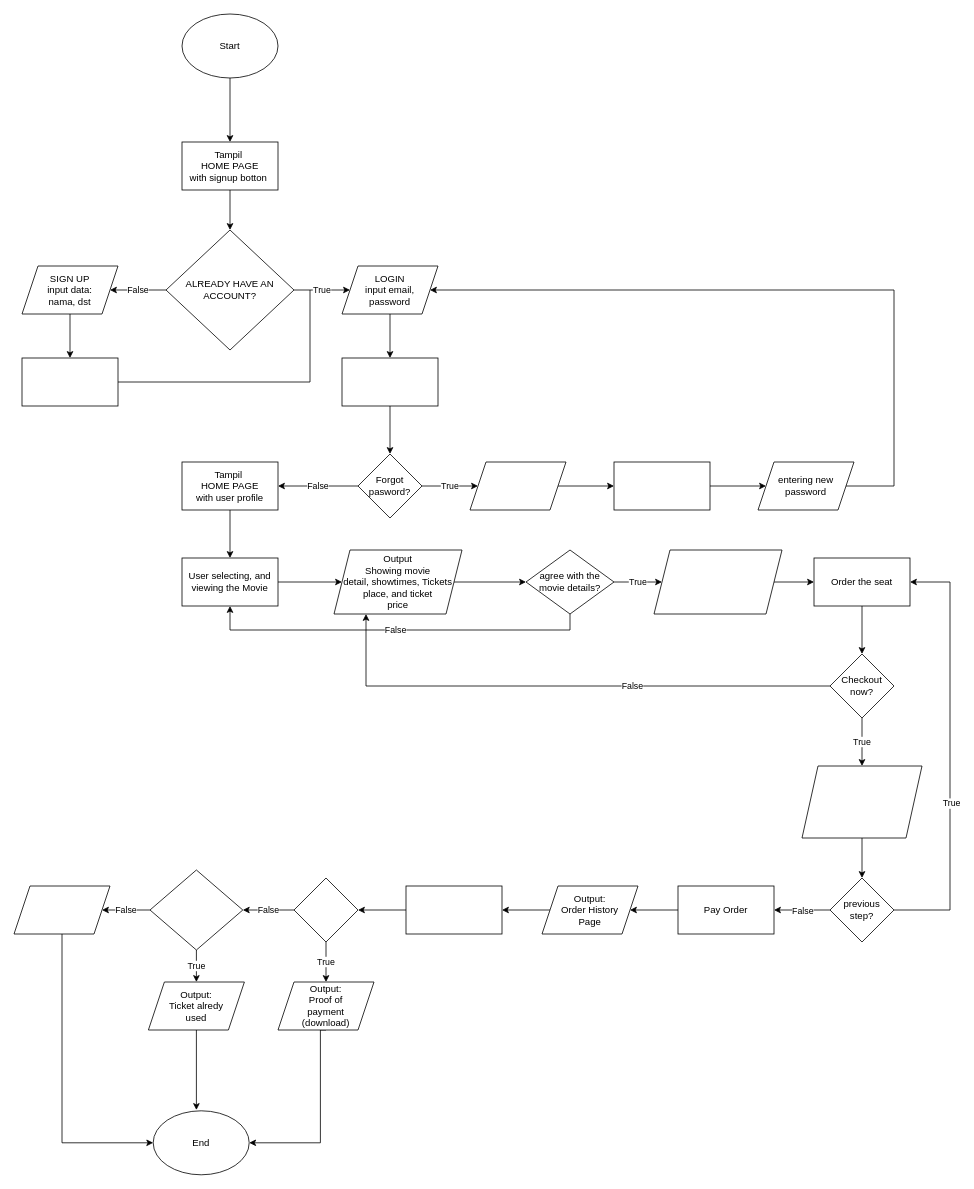
This 974x1189 diagram has some shape labels left out. Here are the shapes that lost their labels. From the top down, the centre of each, then its label:
(x=69, y=381): Proses verifikasi email
(x=389, y=381): Proses LOGIN
(x=517, y=485): Input complete email
(x=661, y=485): Proses verification email, and check email by user
(x=717, y=581): Output: display selected movie, price, and place to order seat
(x=861, y=801): Output: Display payment info and payment method
(x=61, y=909): Output: Ticket Expired
(x=196, y=909): Ticket status: ticket already used?
(x=325, y=909): is ticket active?
(x=453, y=909): Open up ticket
